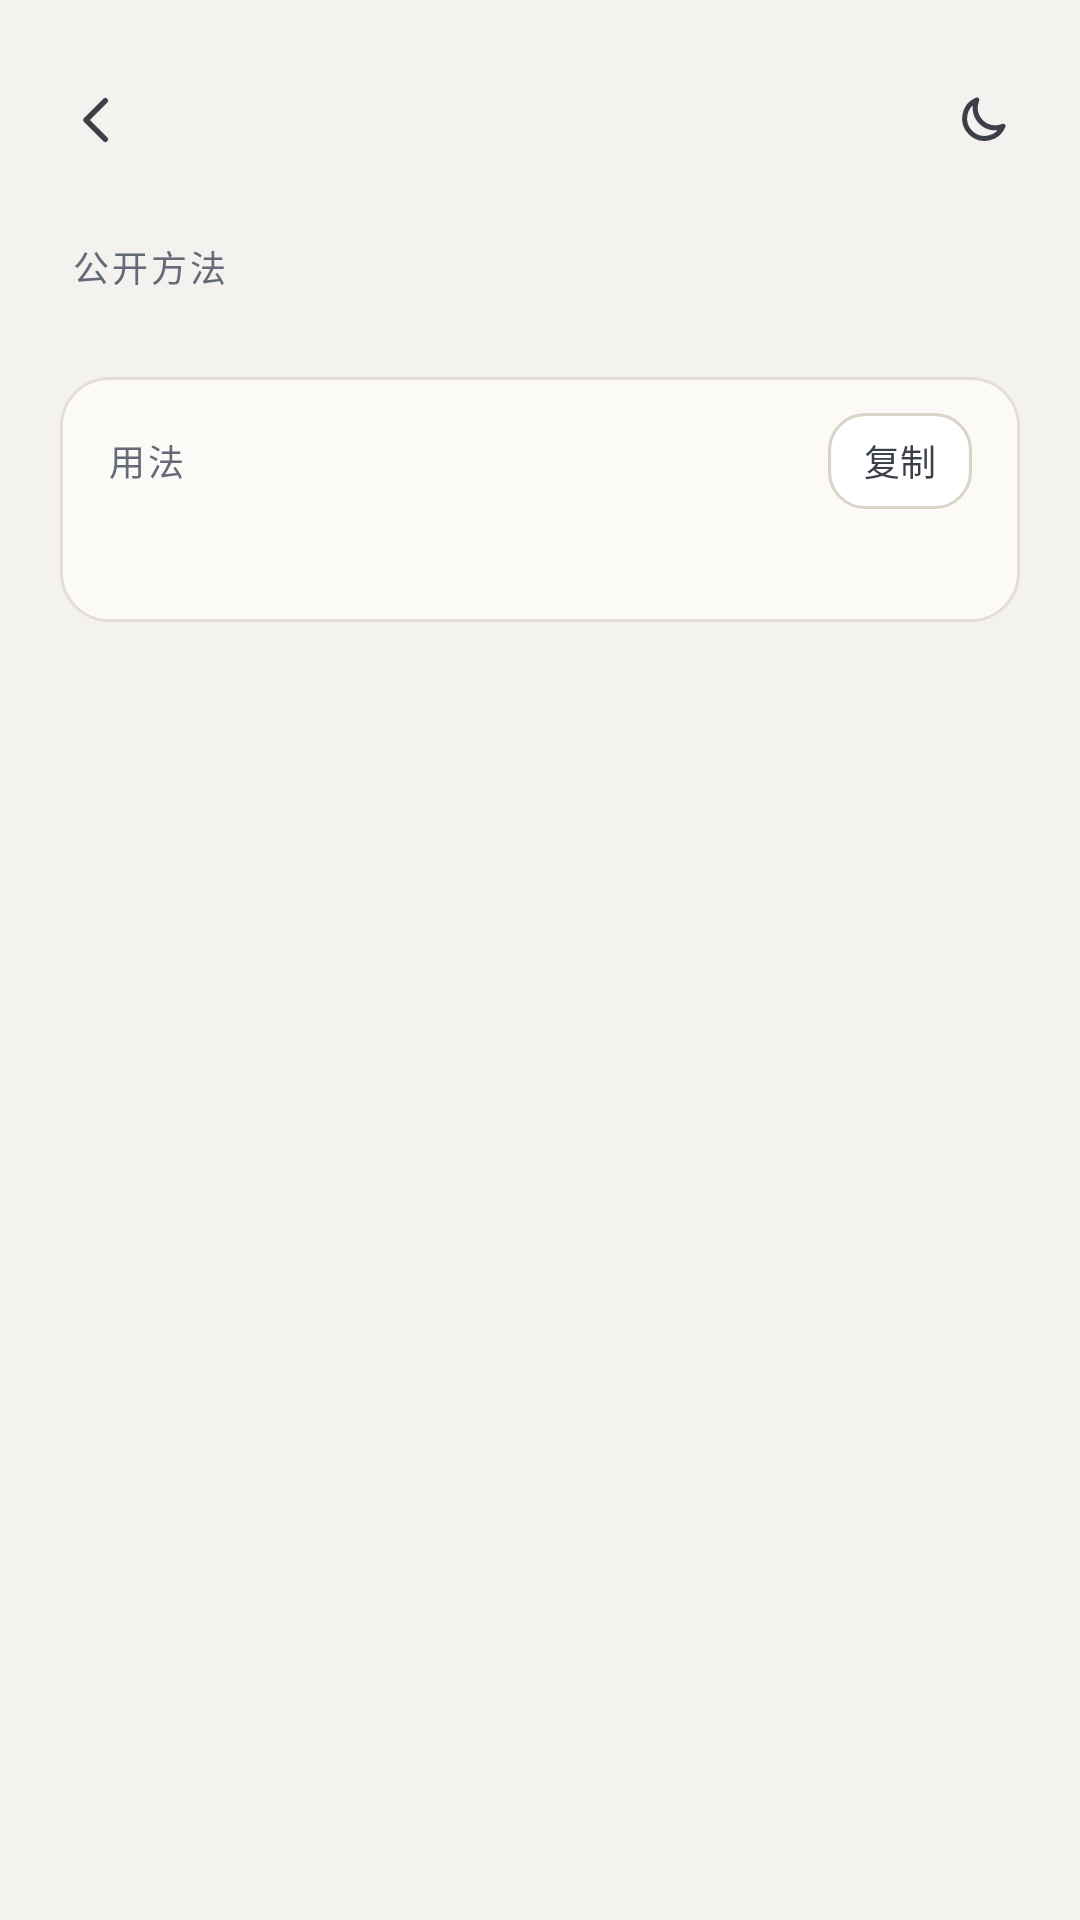

Screen size 1080 × 1920. Icon name, then its center in pixels as (x=x, y=y):
切换到深色: (x=984, y=119)
返回: (x=95, y=120)
